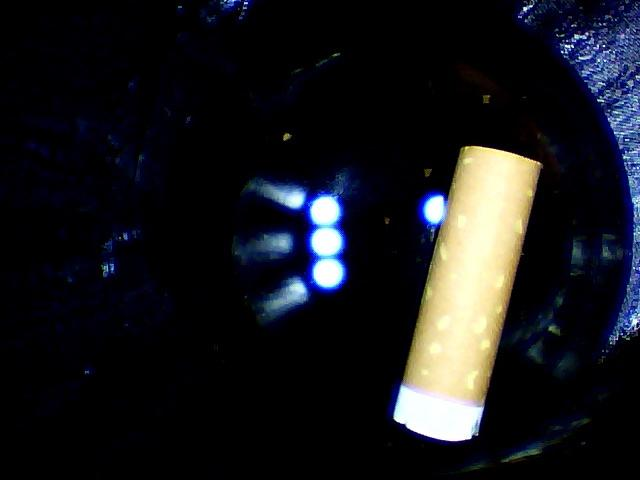megot: (388, 134, 548, 446)
